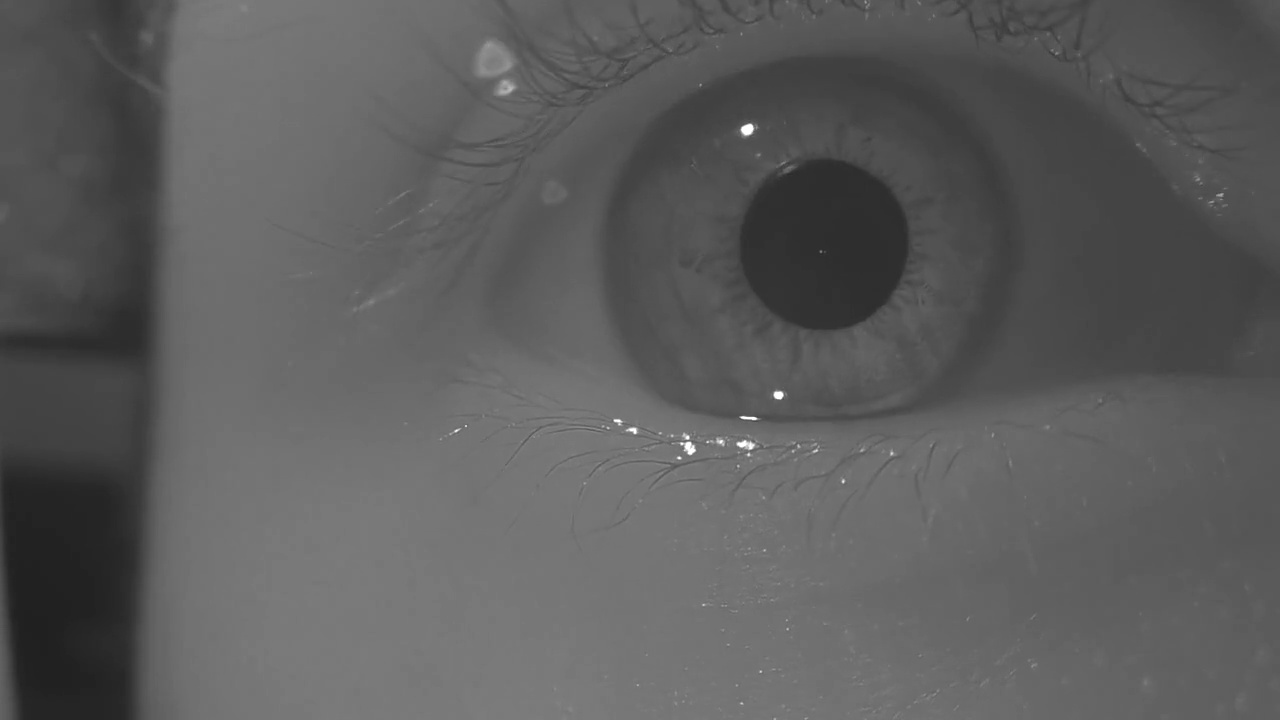pupil: (736, 159, 909, 331)
